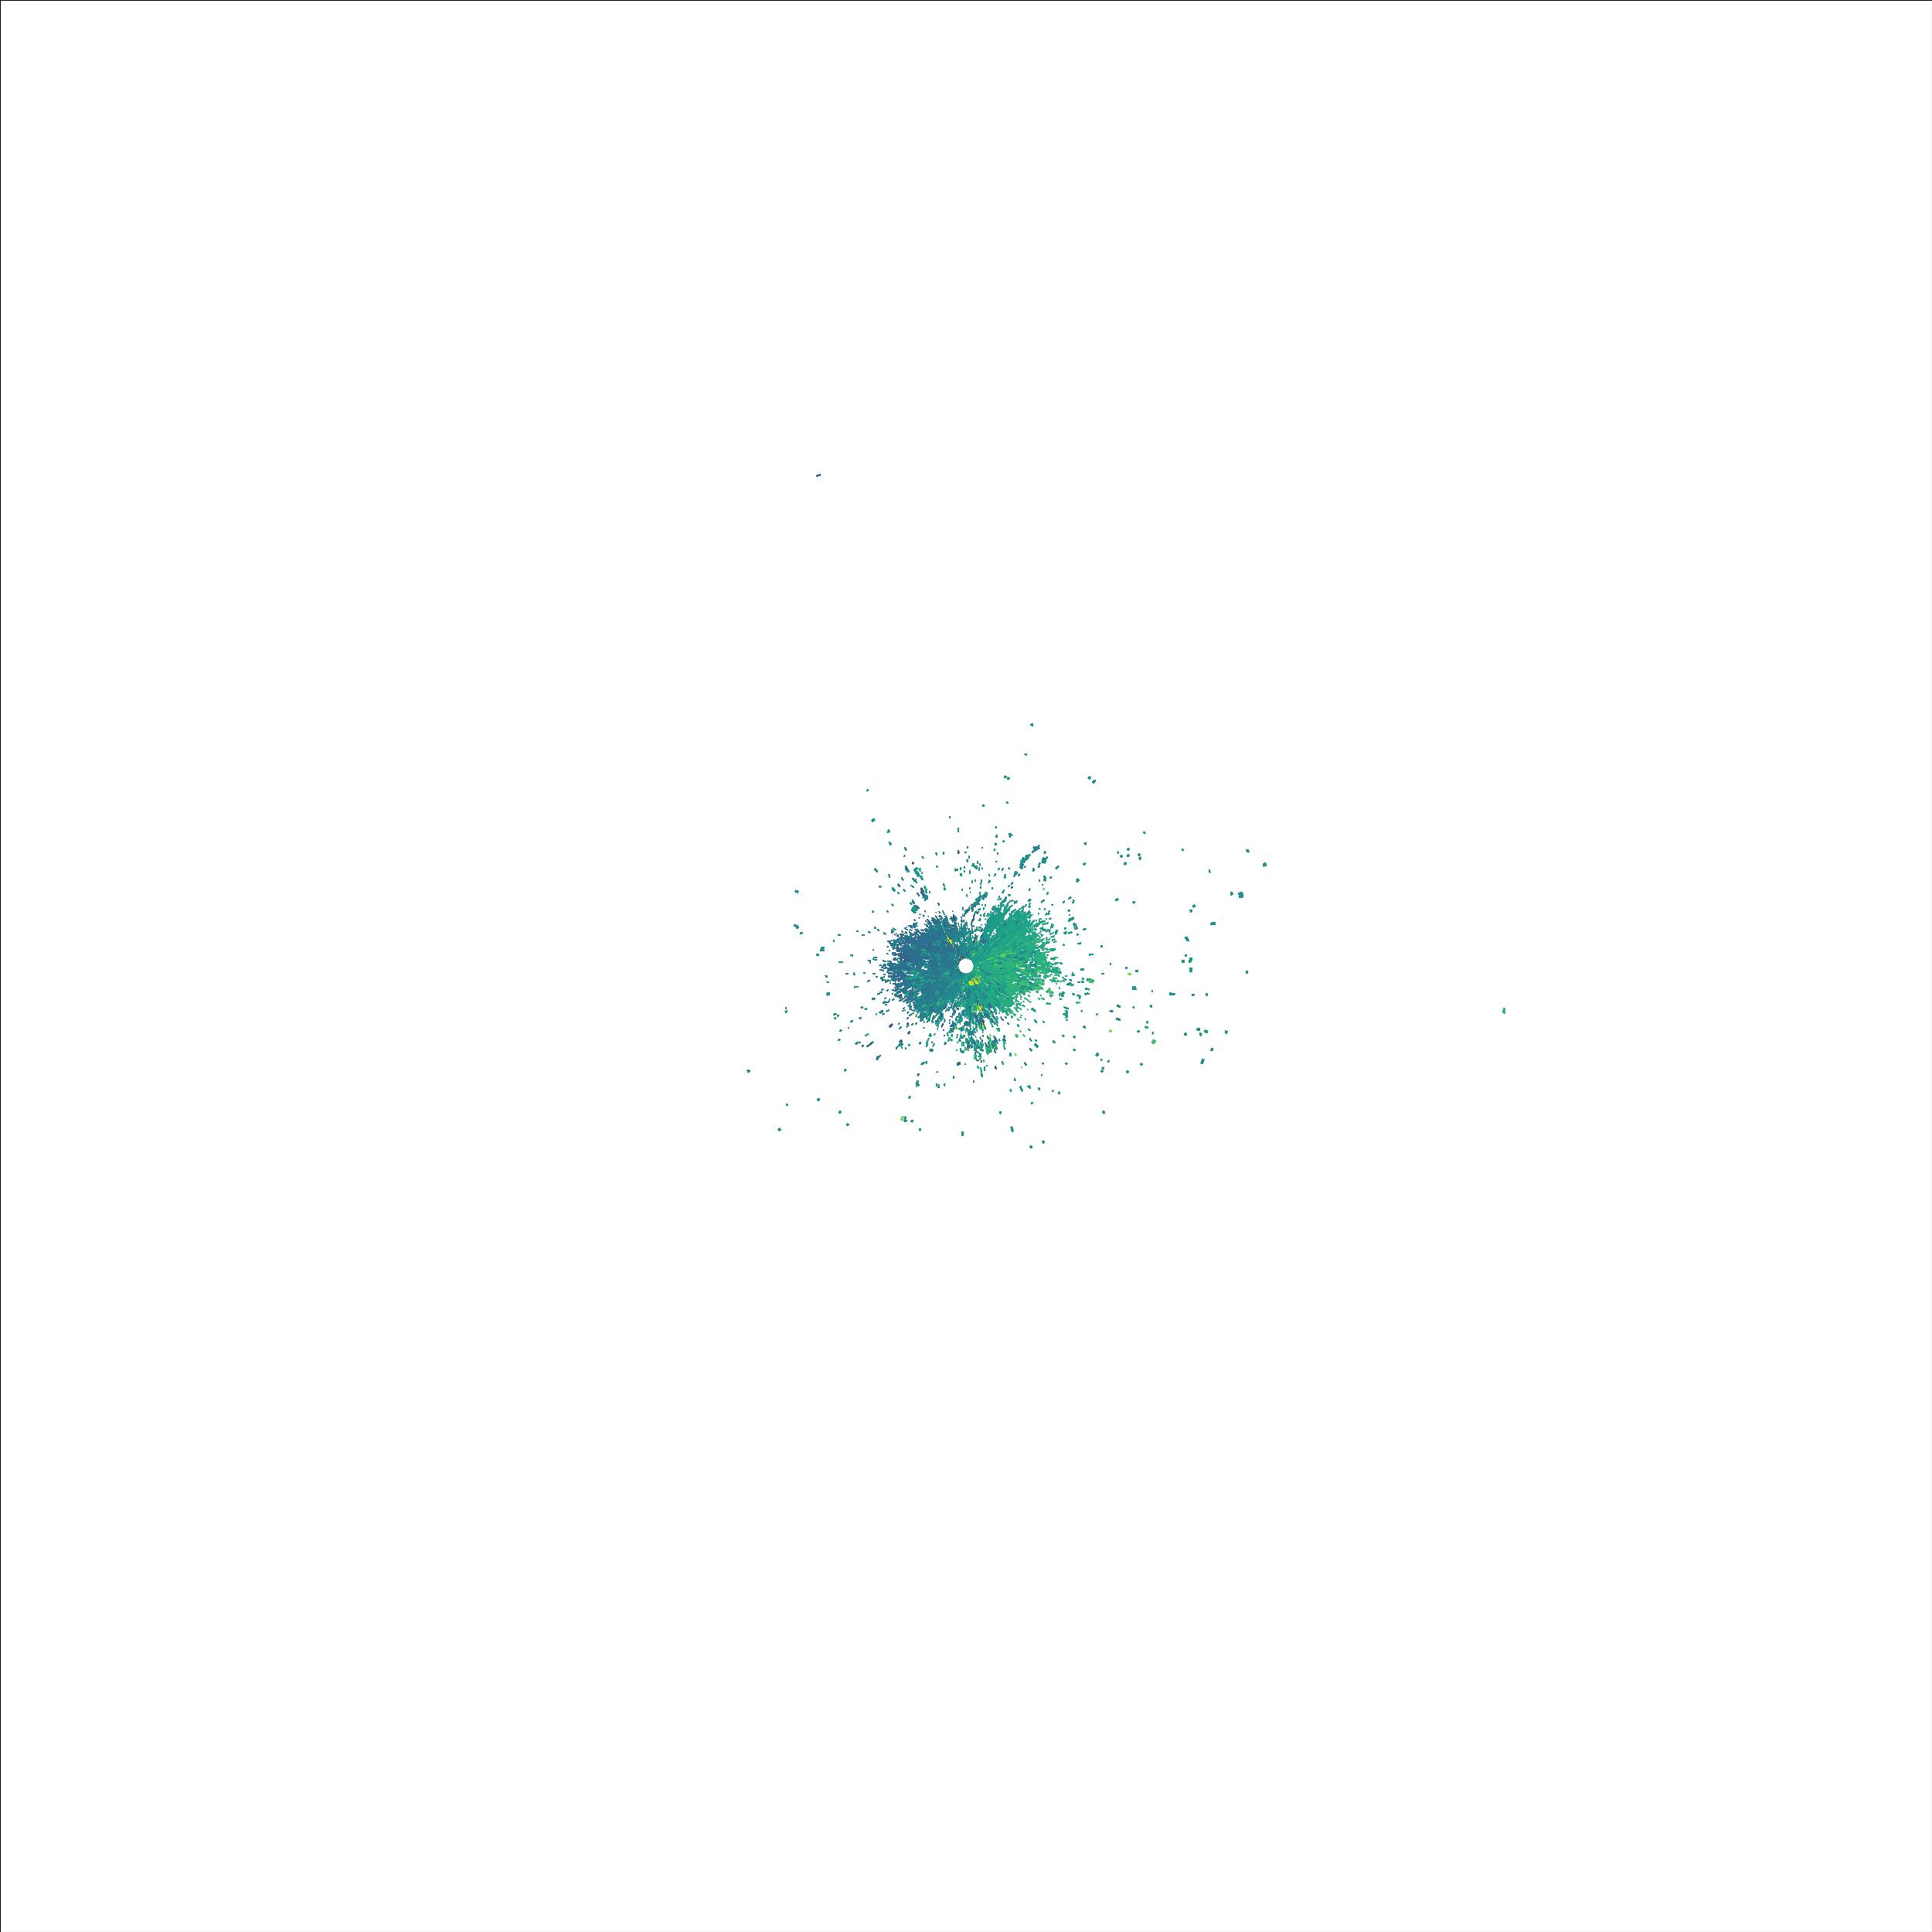fall: (803, 465, 839, 487)
